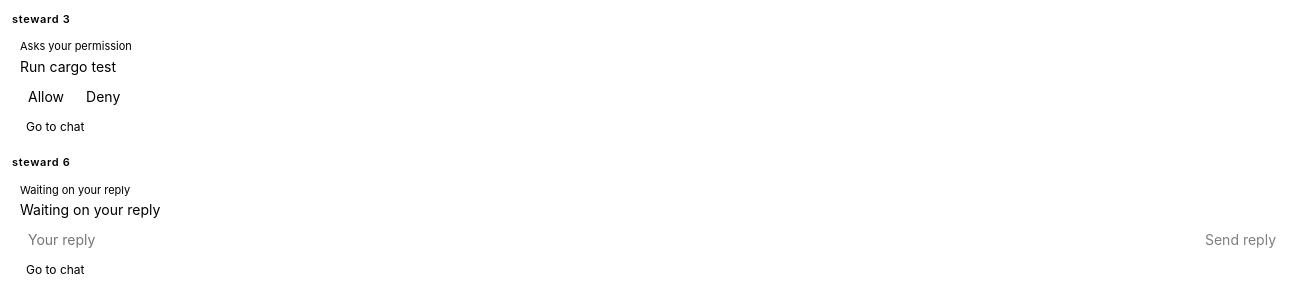
the train 43 review (#1700) › keeps Home and End in the reply box: they move its cursor, not the list
In the field named "Reply to steward 6": {"x": 606, "y": 240} [20,226,1191,254], type "abc"
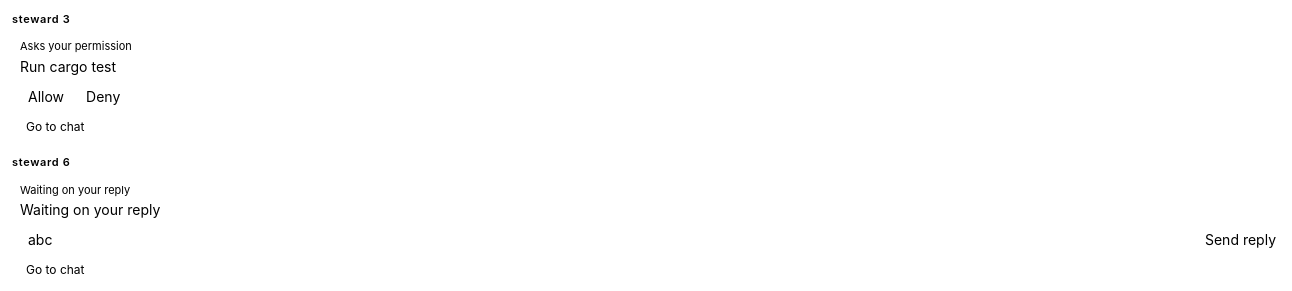
Type keys "{Home}X"
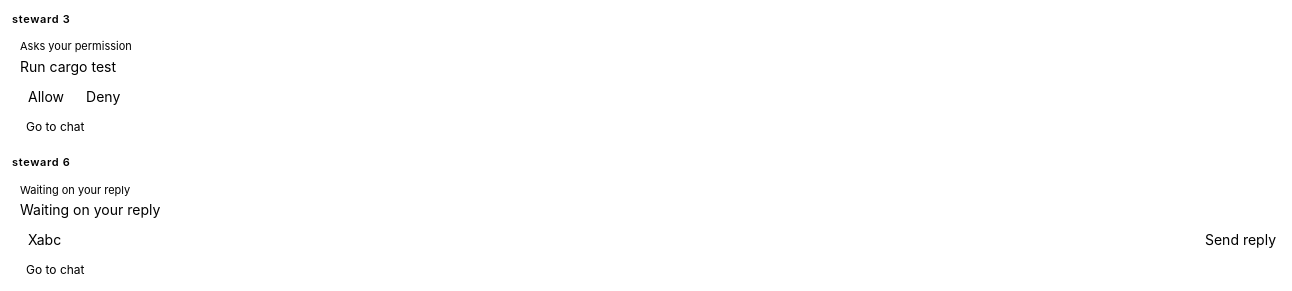
Now the field named "Reply to steward 6" holds "Xabc", box [20,226,1191,254]
Type keys "{End}Y"
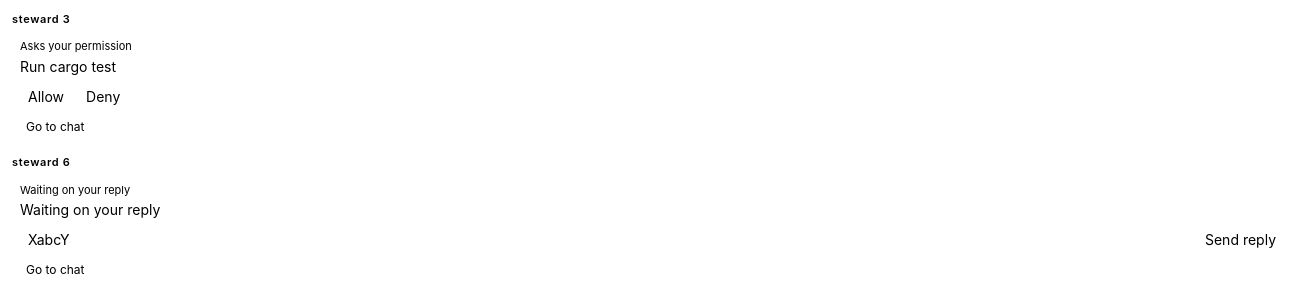
Now the field named "Reply to steward 6" holds "XabcY", box [20,226,1191,254]
